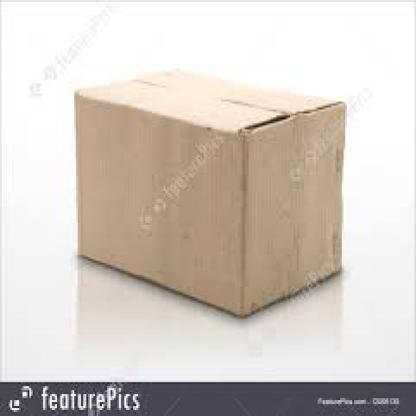box: (74, 68, 344, 315)
